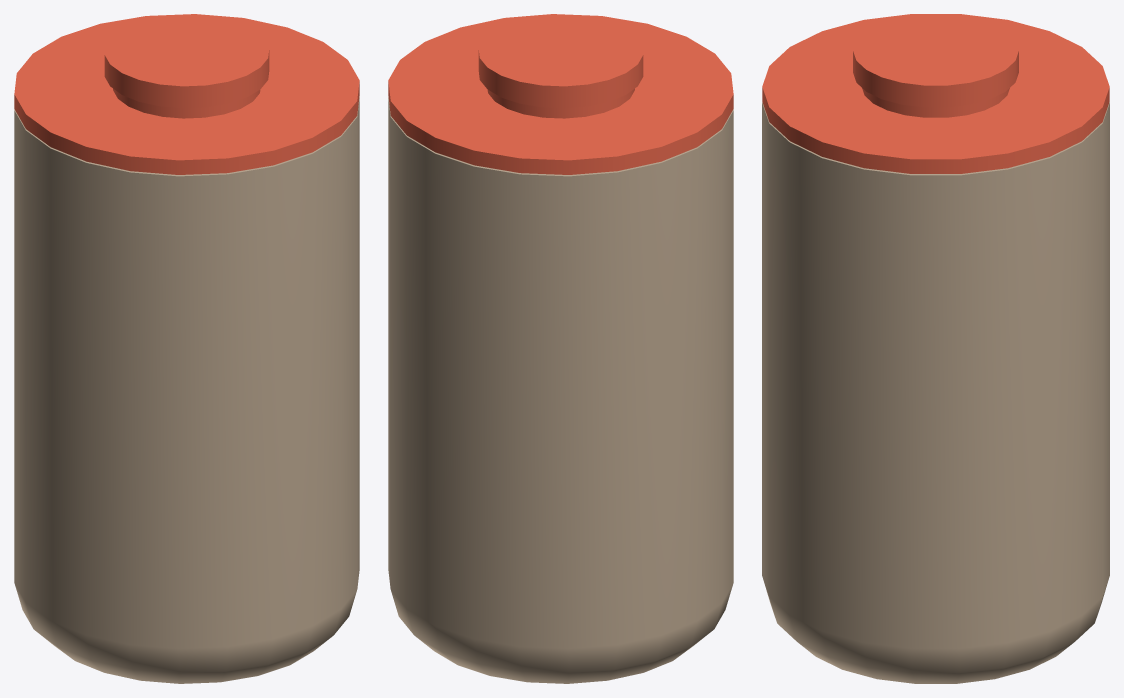
The model's file is container.glb.
3 views of the same model, side by side, from view 1: azimuth 30°, elevation 25°; view 2: azimuth 150°, elevation 25°; view 3: azimuth 270°, elevation 25° (orthographic).
Visible parts, largest first — view 1: container.001, container_cap.001; view 2: container.001, container_cap.001; view 3: container.001, container_cap.001.
Part boxes in pixels (x1=…): container.001: x1=14, y1=96, x2=359, y2=683; container_cap.001: x1=14, y1=14, x2=359, y2=174; container.001: x1=388, y1=96, x2=733, y2=683; container_cap.001: x1=388, y1=14, x2=733, y2=174; container.001: x1=762, y1=102, x2=1109, y2=683; container_cap.001: x1=762, y1=14, x2=1109, y2=173.
Bounding box in the file's own units: 0.0534 × 0.0995 × 0.054.
1 material, 1 textured.
